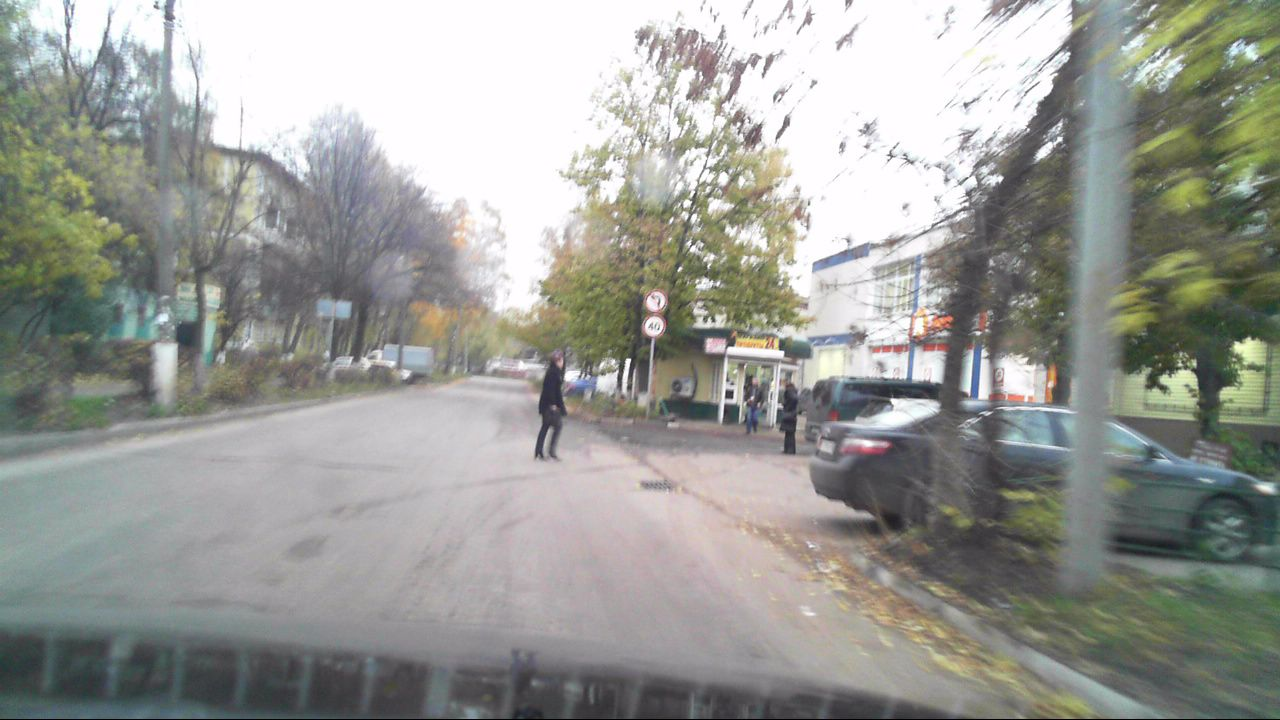speed_warning_40: (642, 314, 665, 337)
